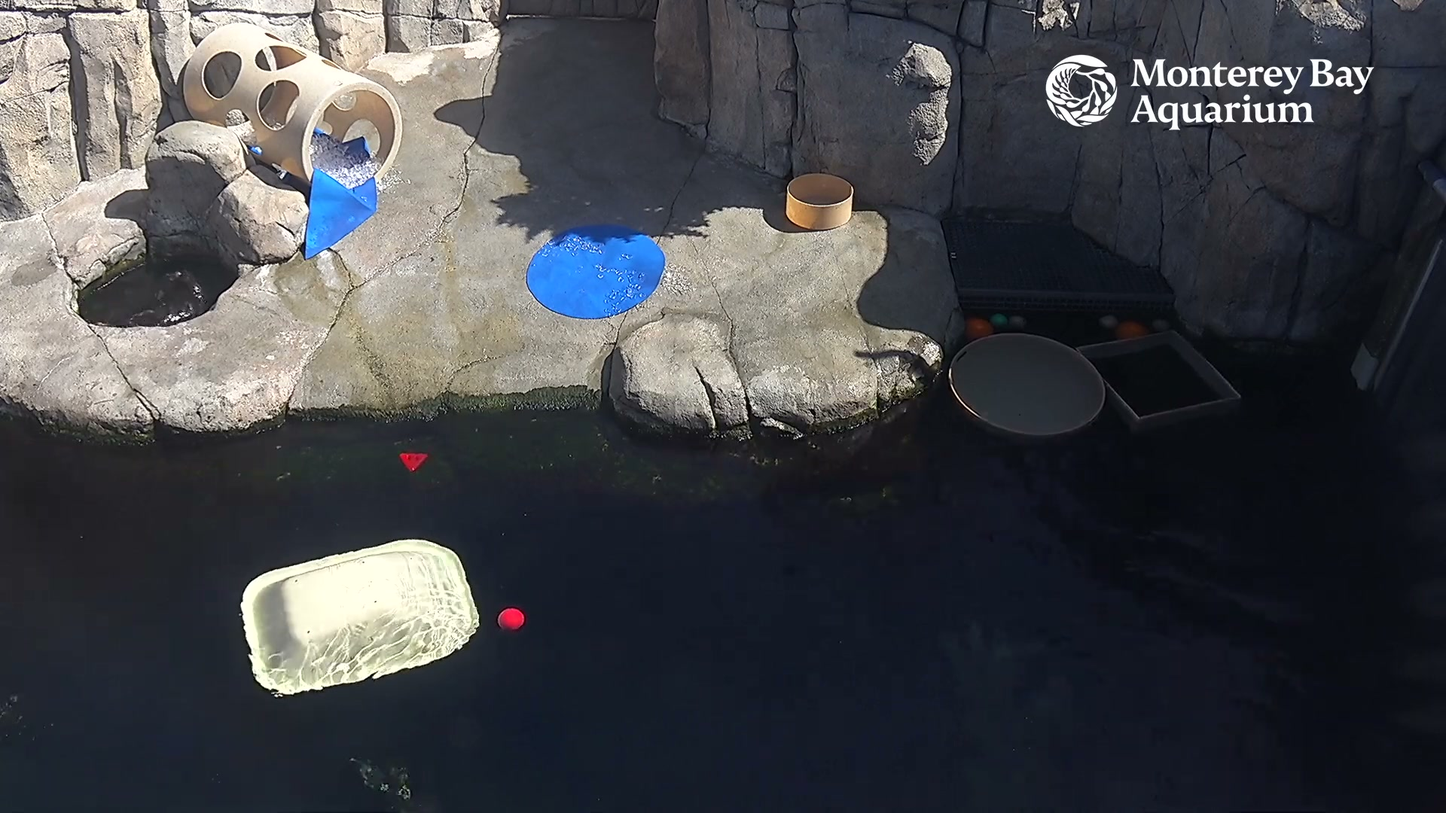Southern Sea Otter: (123, 254, 213, 324)
